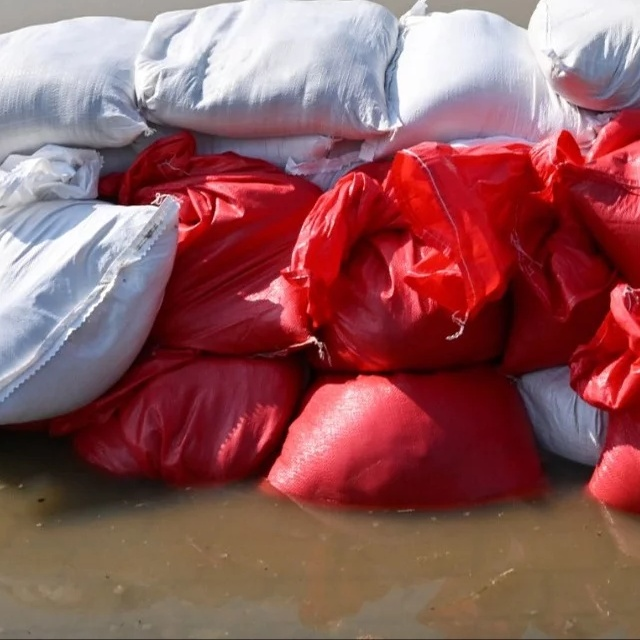sandbag: (0, 145, 179, 425), (263, 370, 543, 509), (134, 0, 400, 140), (367, 0, 599, 158), (61, 360, 306, 485), (0, 20, 149, 160), (571, 284, 640, 513), (530, 0, 640, 110), (572, 144, 640, 287), (519, 370, 607, 467)
